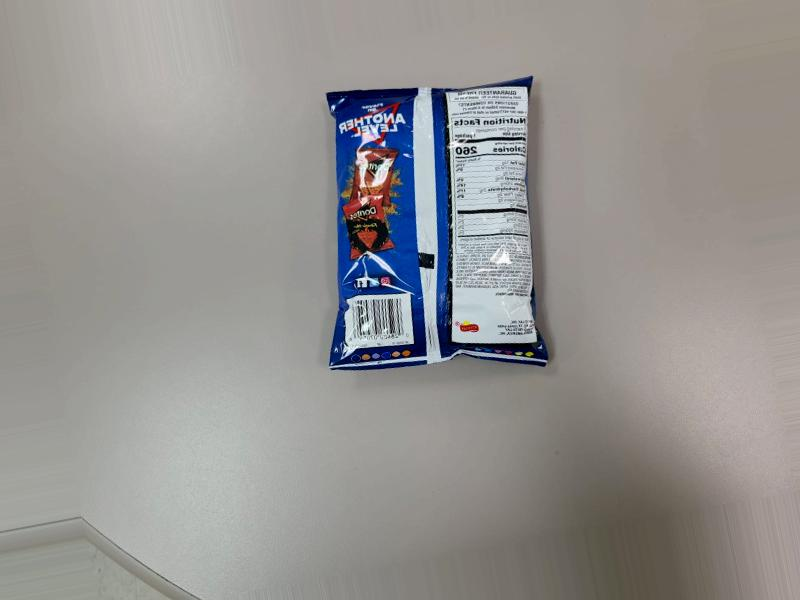doritos: (336, 89, 569, 380)
